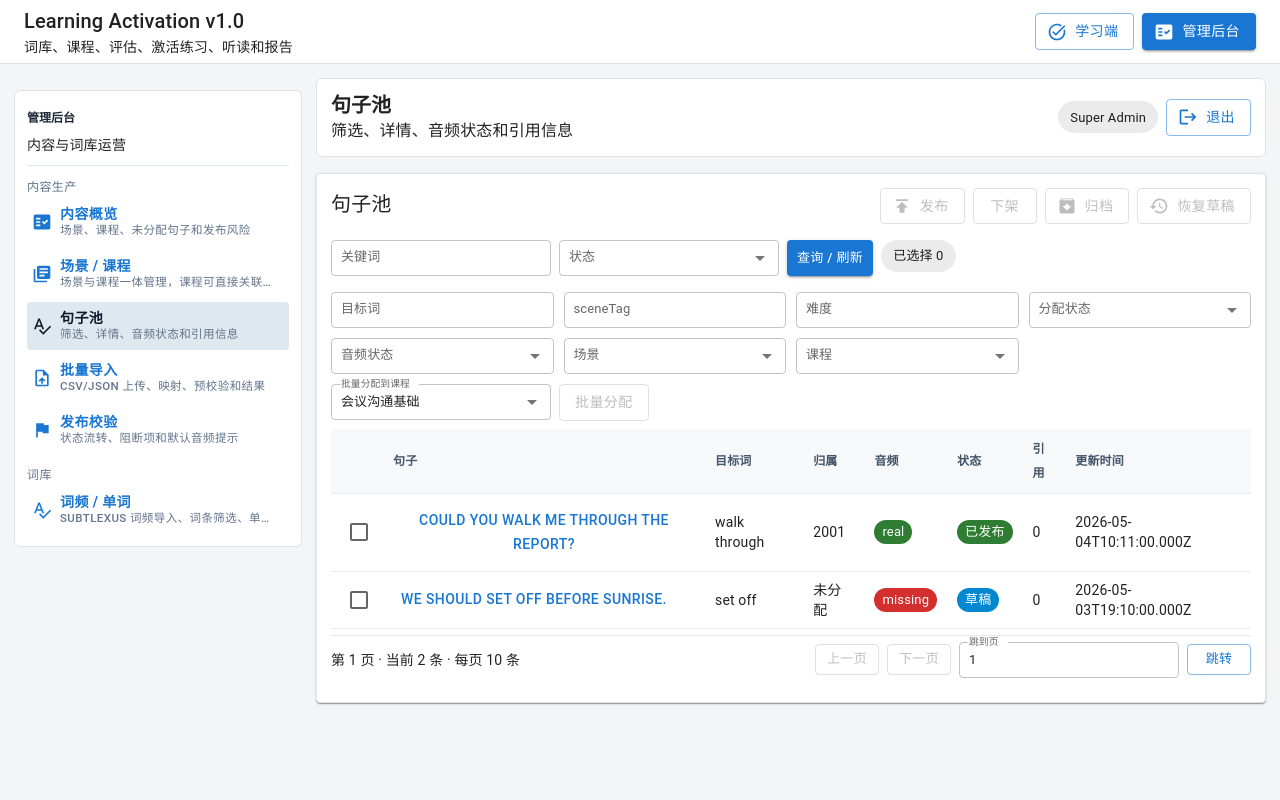
Test: App v1.0 shell › filters and bulk assigns content admin sentences
The image size is (1280, 800).
Expected: the button "We should set off before sunrise." is shown, [393, 581, 675, 618]
Step 1. Click the dropdown named "分配状态" next to "分配状态" → (1140, 310), box [1028, 293, 1251, 328]
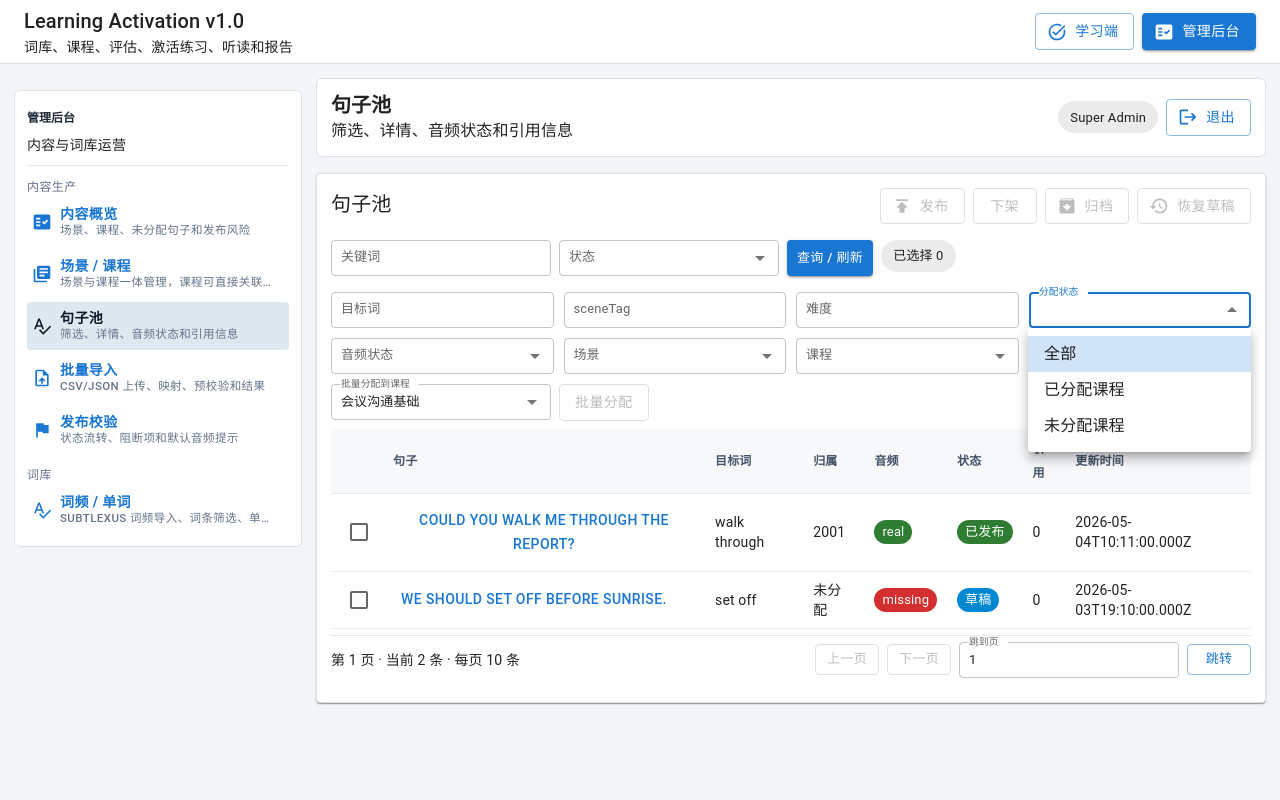
Step 2. Click the option "未分配课程" → (1084, 426), box [1044, 416, 1125, 435]
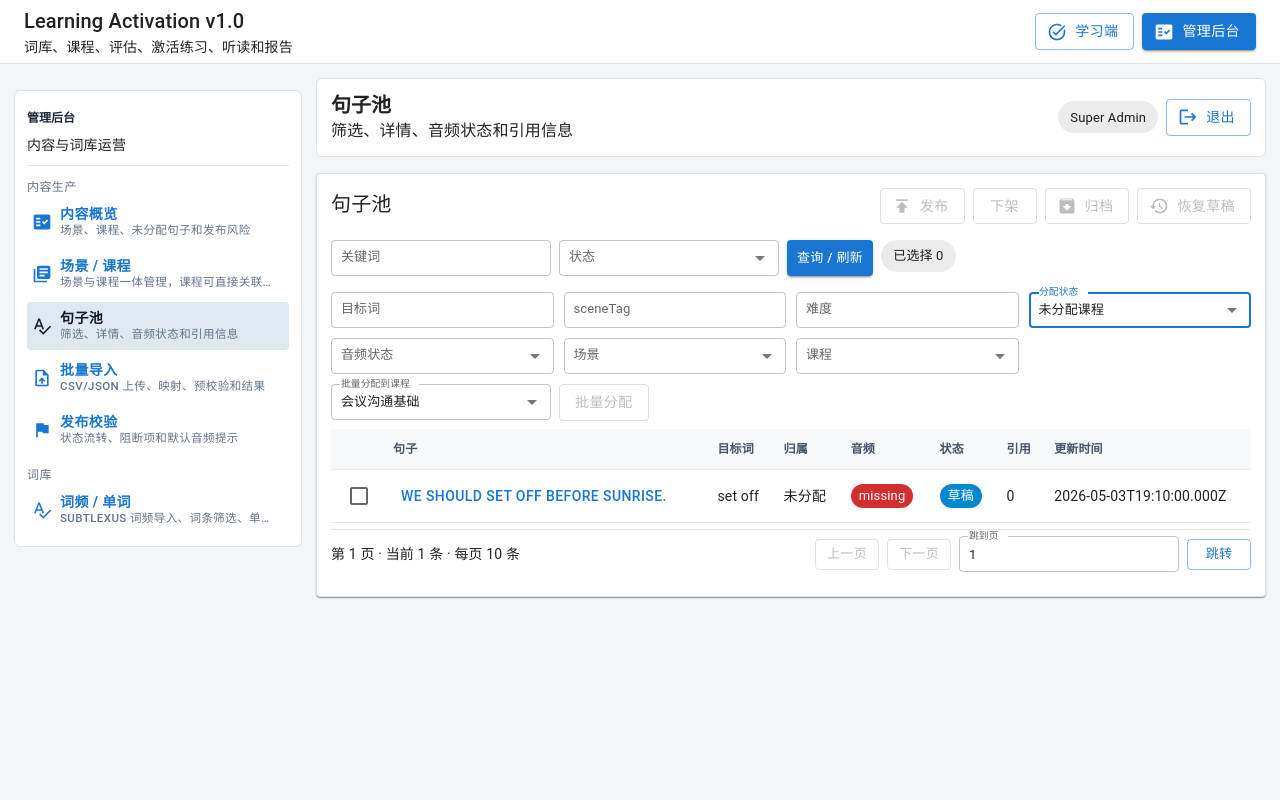
Expected: the button "We should set off before sunrise." is shown, [393, 478, 675, 514]
Now the button "Could you walk me through the report?" is gone
Step 3. Click the checkbox → (359, 496), box [347, 484, 371, 508]
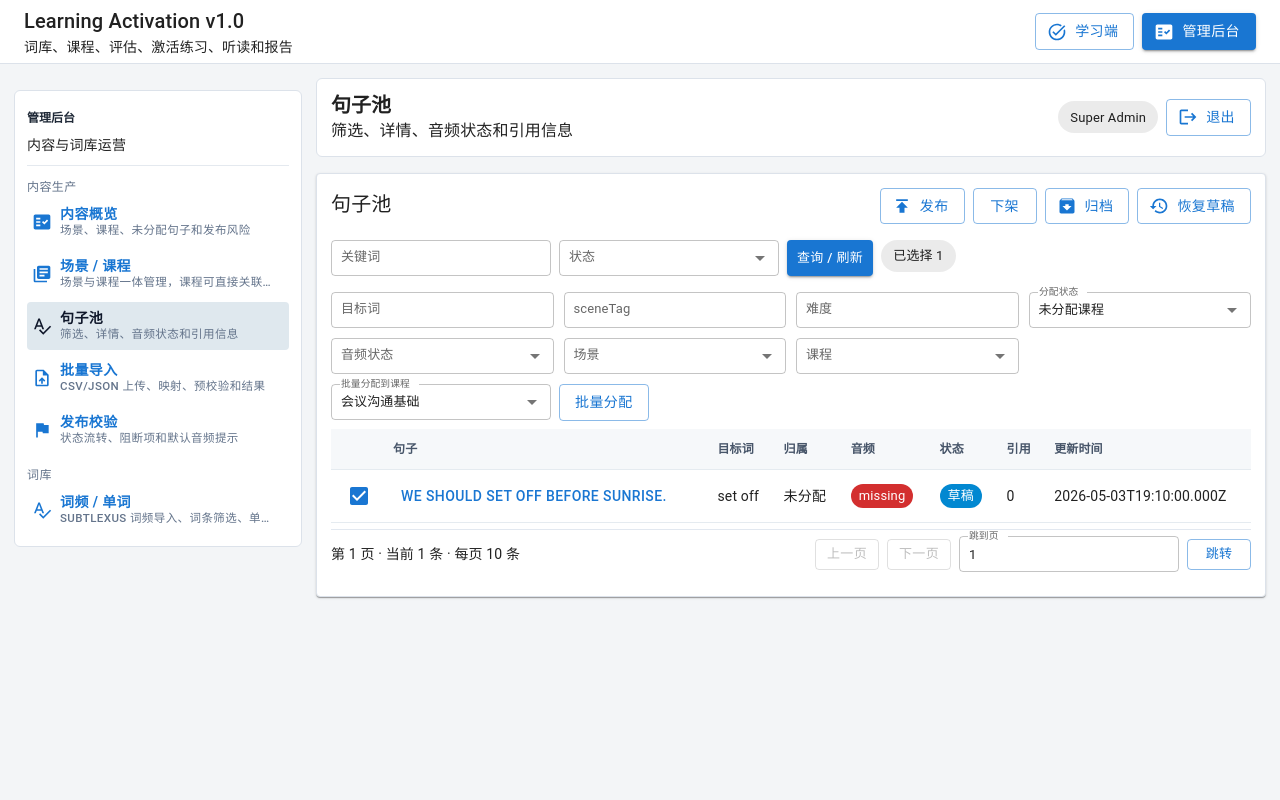
Step 4. Click the button "批量分配" → (604, 402), box [559, 384, 649, 421]
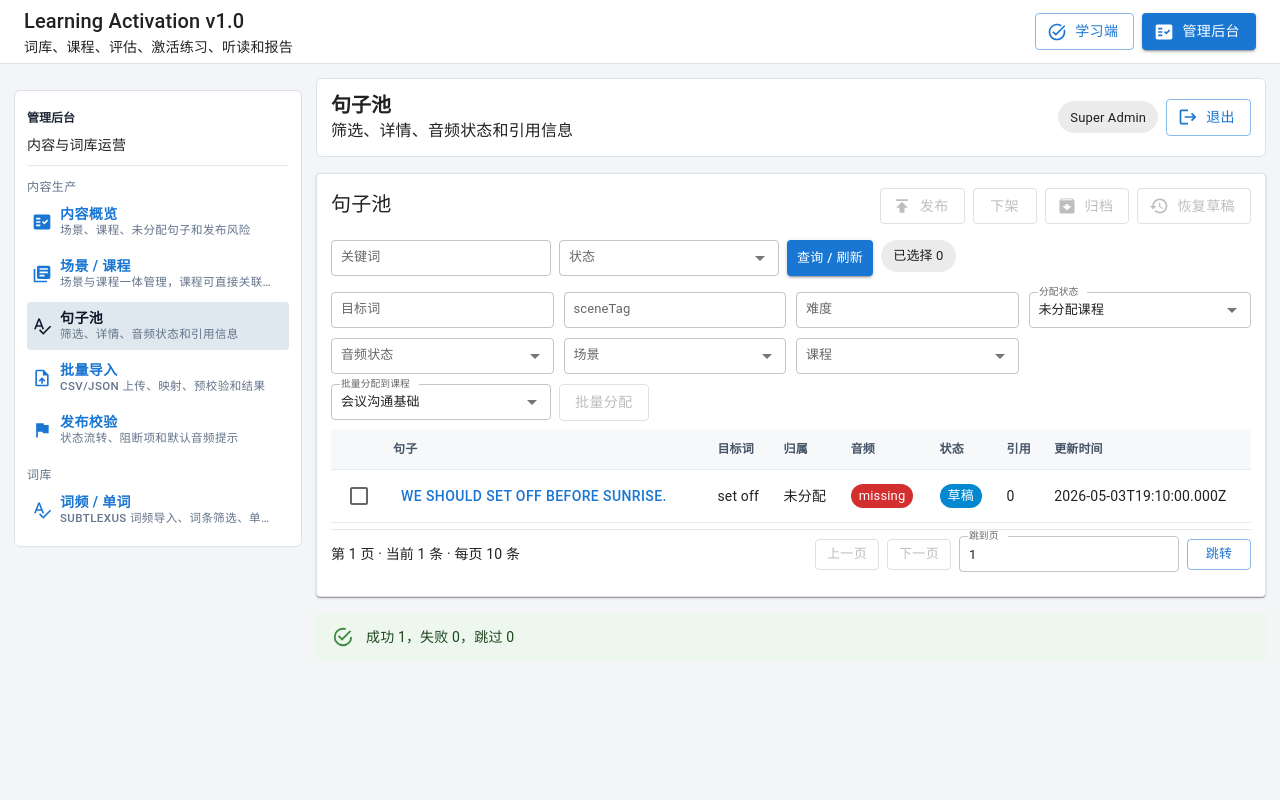
Now the text "成功 1，失败 0，跳过 0" is shown, box [366, 629, 514, 645]
